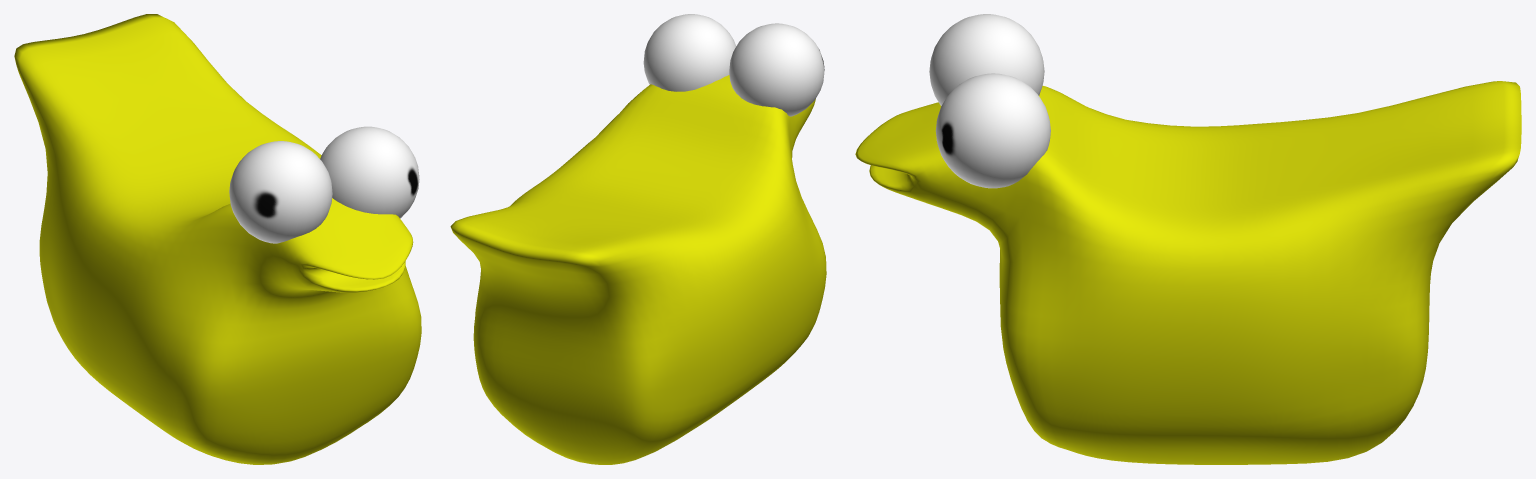
Rendered from pato_dorado.glb.
The picture shows the model from 3 angles, left to right: view 1: azimuth 30°, elevation 25°; view 2: azimuth 150°, elevation 25°; view 3: azimuth 270°, elevation 25°; orthographic projection. The views are drawn at different scales.
Parts seen in each view (by area): view 1: Sphere; view 2: Sphere; view 3: Sphere.
Boxes of the visible parts, x1,y1,x2,y2 form: Sphere: [14, 14, 421, 464]; Sphere: [450, 14, 826, 464]; Sphere: [855, 14, 1521, 464].
Bounding box in the file's own units: 3.26 × 4.43 × 6.47.
3 materials, 2 textured.
